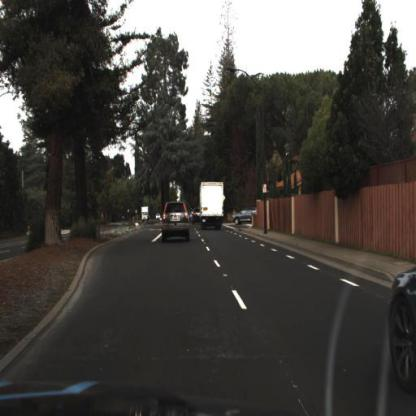car: (384, 245, 416, 407), (160, 195, 196, 253), (196, 178, 229, 233), (234, 205, 257, 229), (232, 207, 258, 223), (139, 202, 153, 227), (157, 214, 162, 220)
truck: (200, 181, 226, 230), (143, 207, 148, 223)
